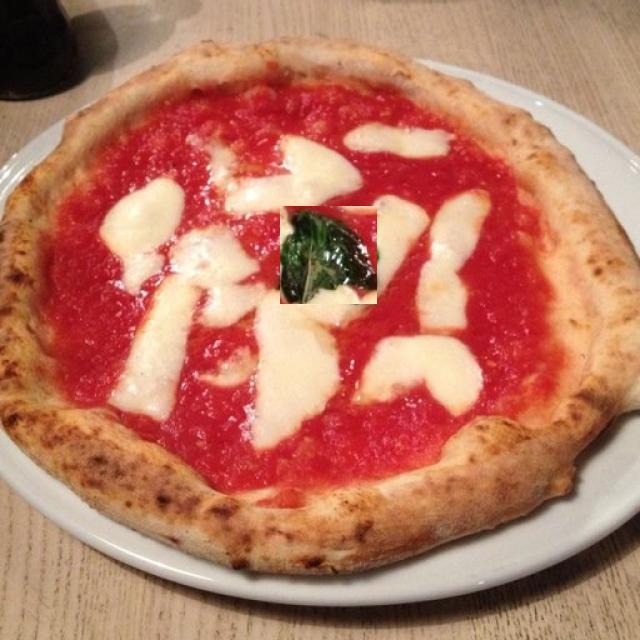basil: (280, 206, 377, 304)
pizza: (0, 42, 640, 577)
